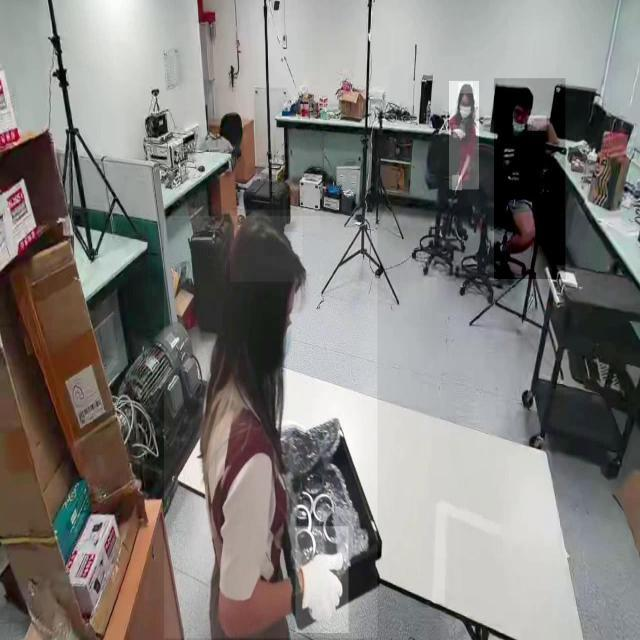gloves: (295, 526, 349, 634)
